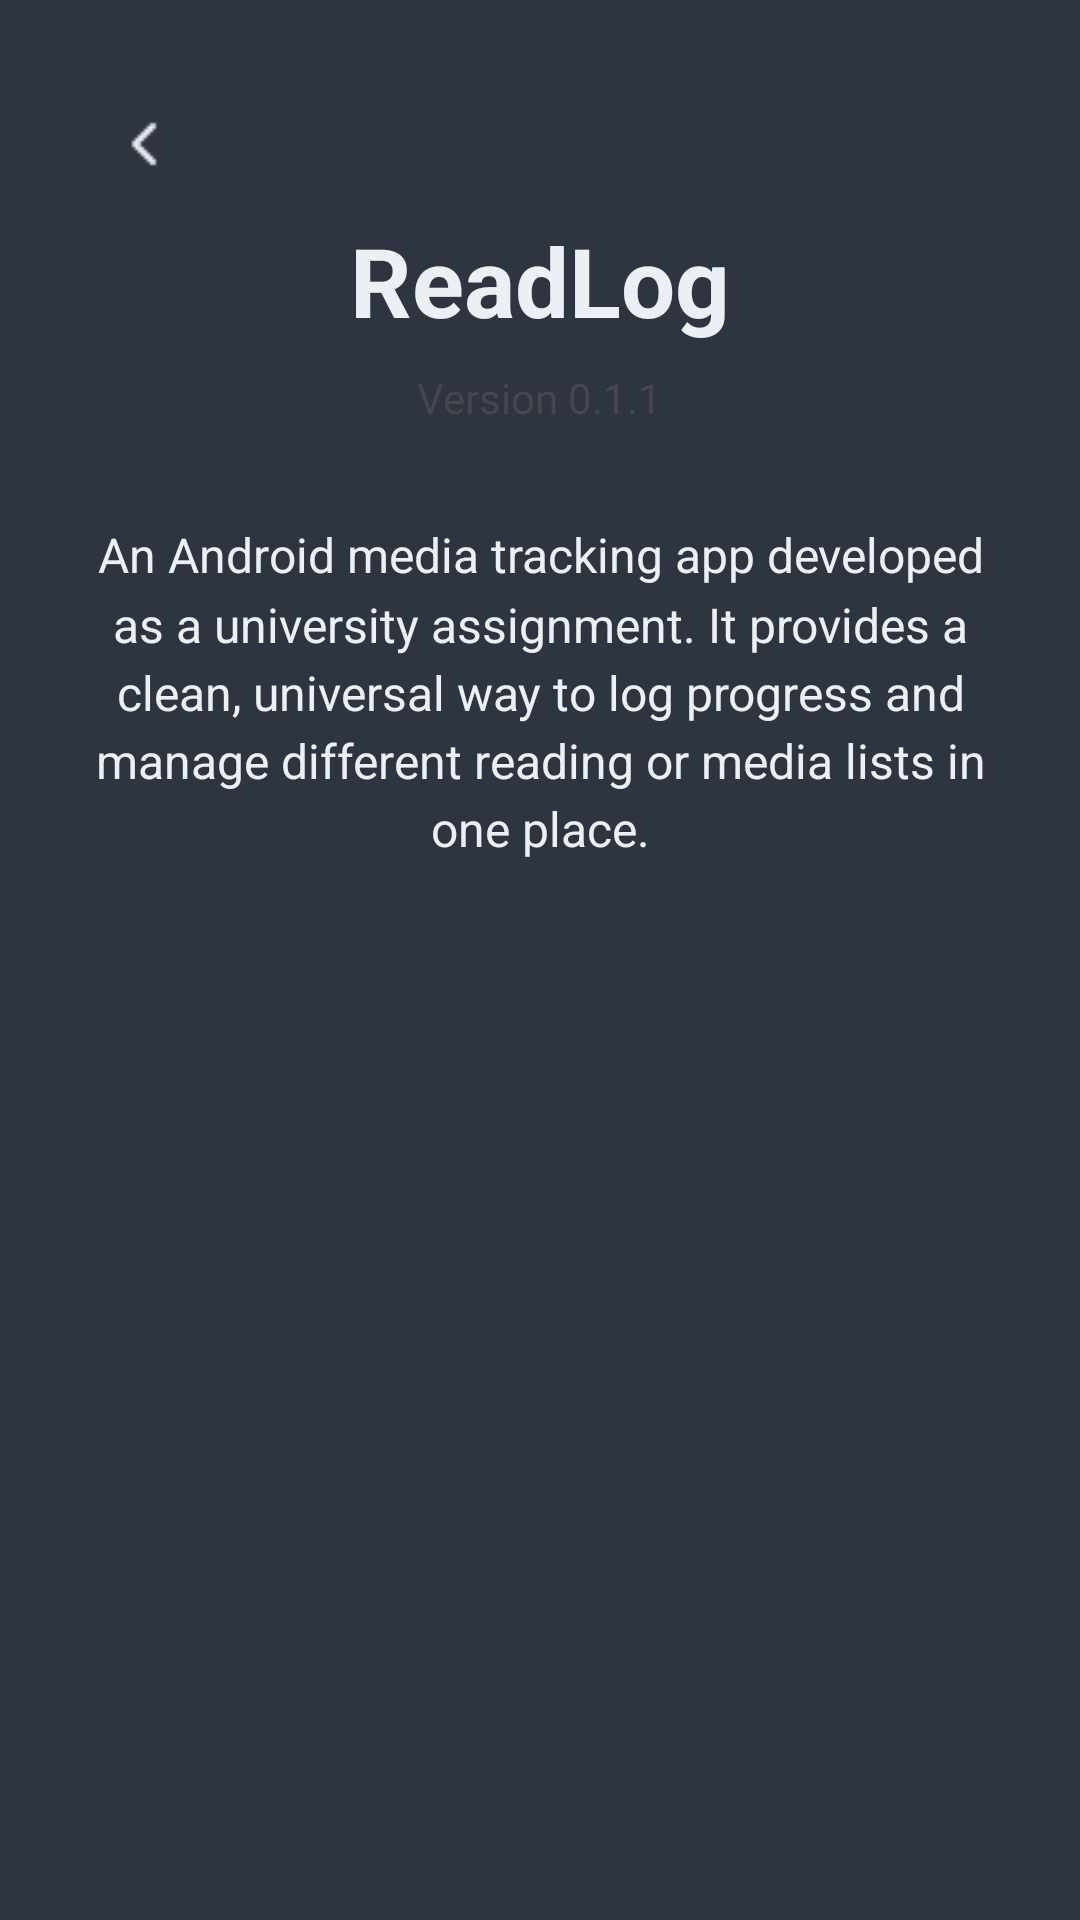

Point at icon controls on the screen. Image size 1080 x 1920, points as [x,y].
Go back: [144,144]
